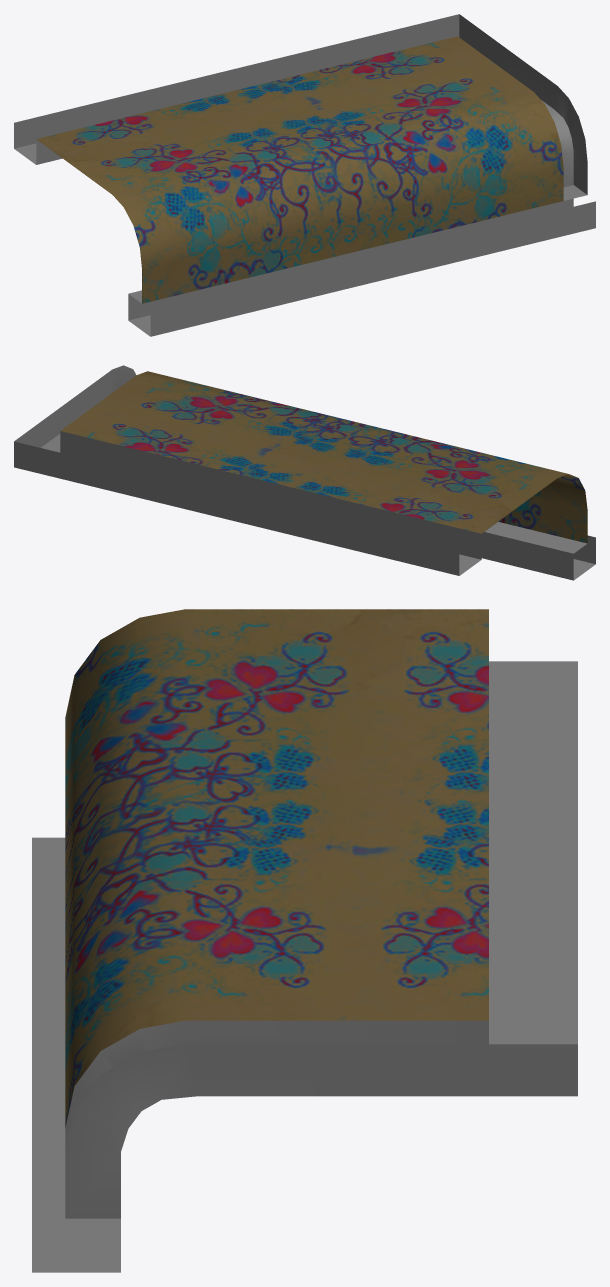
The model's file is Ceiling_Sides.fbx.
3 renders of one model, top to bottom at view 1: azimuth 30°, elevation 25°; view 2: azimuth 150°, elevation 25°; view 3: azimuth 270°, elevation 25°, orthographic. The views are drawn at different scales.
Visible parts, largest first — view 1: Ceiling_Sides; view 2: Ceiling_Sides; view 3: Ceiling_Sides.
Boxes of the visible parts, bbox=[...] form: Ceiling_Sides: bbox=[14, 14, 595, 336]; Ceiling_Sides: bbox=[14, 365, 595, 580]; Ceiling_Sides: bbox=[32, 609, 577, 1272].
Size of the model in its own units: 502 by 123 by 267.
